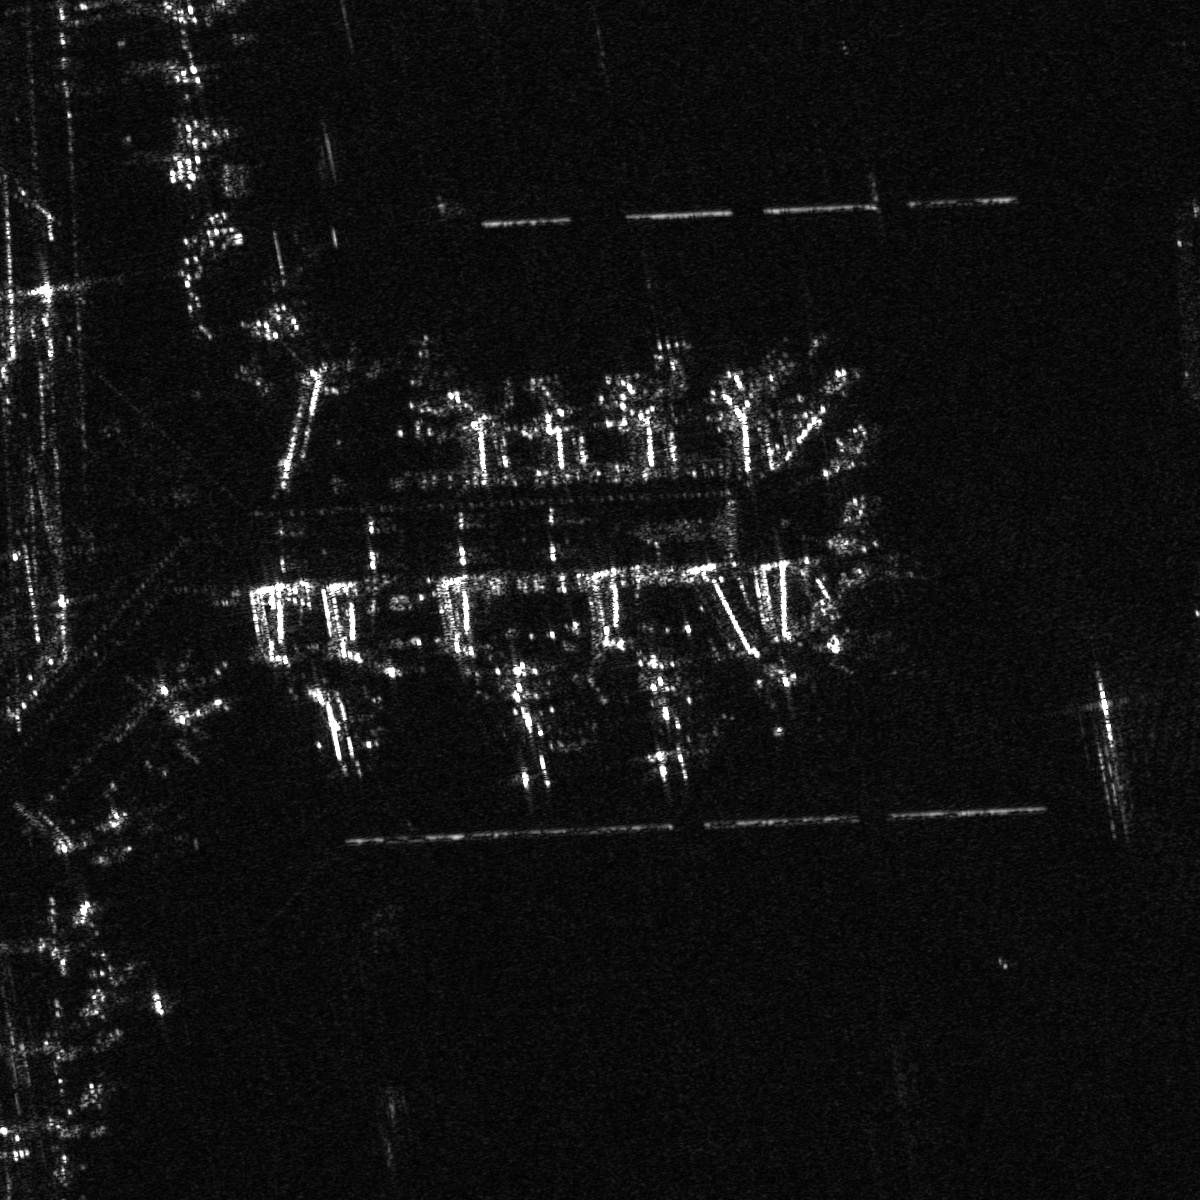Boeing737: (305, 680, 384, 779), (753, 664, 816, 722)
Boeing787: (496, 677, 574, 792)
other: (621, 673, 712, 784)
